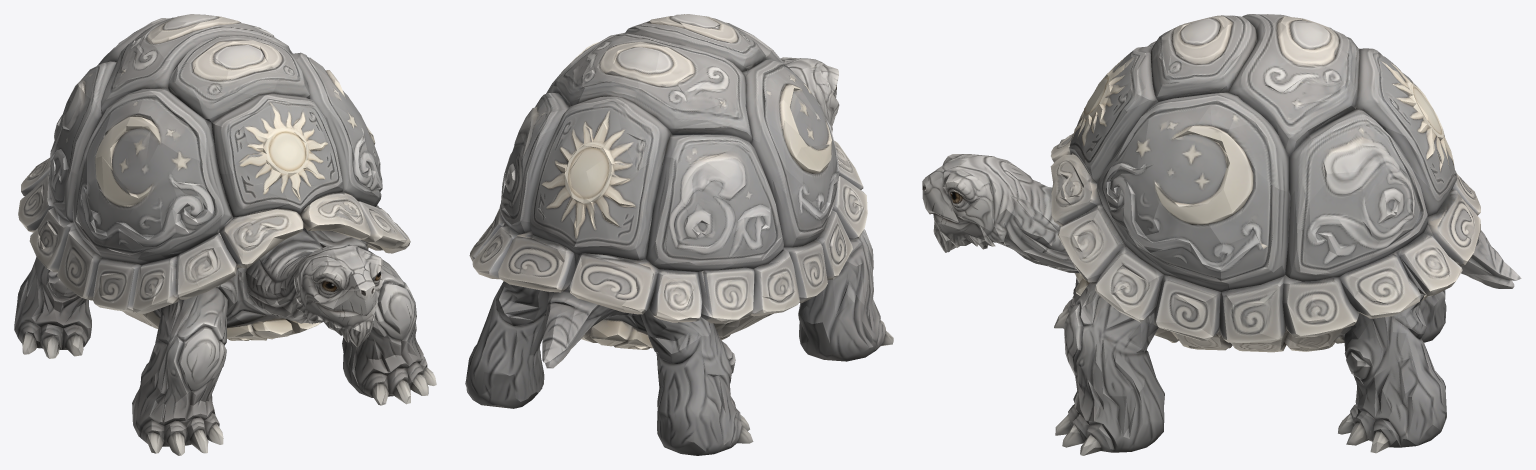
3 views of the same model, side by side, from view 1: azimuth 30°, elevation 25°; view 2: azimuth 150°, elevation 25°; view 3: azimuth 270°, elevation 25° (orthographic). The views are drawn at different scales.
Size of the model in its own units: 1.17 by 1.25 by 1.9.
1 material, 1 textured.
